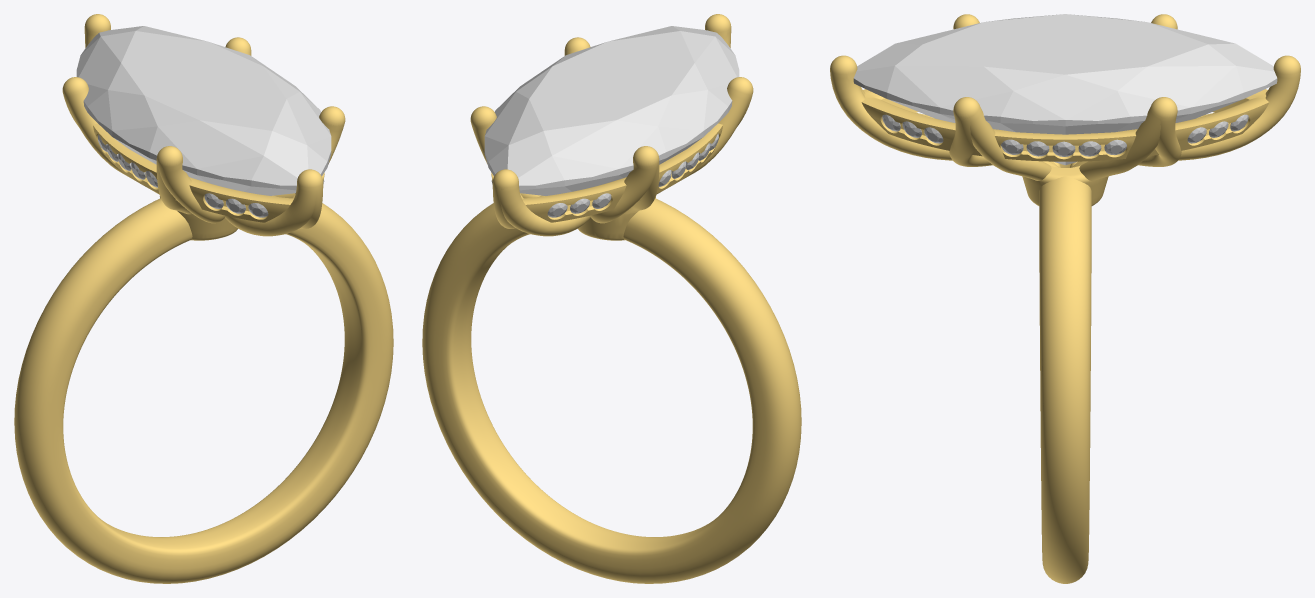
Rendered from ToddYGeng_blender.glb.
3 views of the same model, side by side, from view 1: azimuth 30°, elevation 25°; view 2: azimuth 150°, elevation 25°; view 3: azimuth 270°, elevation 25° (orthographic). The views are drawn at different scales.
Visible parts, largest first — view 1: Todd YG for 3d model, Todd dia for 3d model.022; view 2: Todd YG for 3d model, Todd dia for 3d model.022; view 3: Todd YG for 3d model, Todd dia for 3d model.022.
Part boxes in pixels (x1,y1,x2,y2): Todd YG for 3d model: [14, 14, 393, 583]; Todd dia for 3d model.022: [76, 26, 331, 195]; Todd YG for 3d model: [422, 14, 801, 583]; Todd dia for 3d model.022: [484, 26, 739, 195]; Todd YG for 3d model: [830, 14, 1300, 583]; Todd dia for 3d model.022: [853, 14, 1277, 165].
Size of the model in its own units: 19.65 by 25.02 by 20.6.
